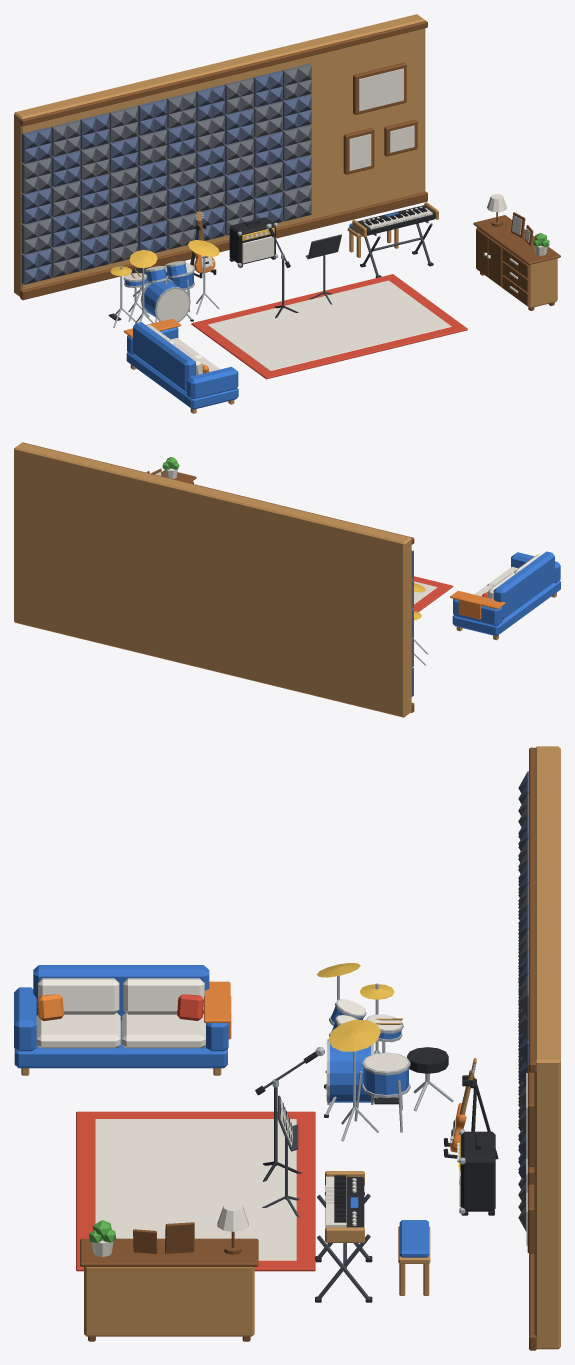
The model's file is cosy-music-room.glb.
3 renders of one model, top to bottom at view 1: azimuth 30°, elevation 25°; view 2: azimuth 150°, elevation 25°; view 3: azimuth 270°, elevation 25°, orthographic. The views are drawn at different scales.
Visible parts, largest first — view 1: FoamWall_Body, Rug_Body, Sofa_Body, DrumKit_Body, Cabinet_Body, Keyboard_Body, Amplifier_Body, MusicStand_Body, Door_R, Door_L, Guitar; view 2: FoamWall_Body, Sofa_Body, Rug_Body, Cabinet_Body; view 3: Rug_Body, FoamWall_Body, Cabinet_Body, Sofa_Body, DrumKit_Body, Keyboard_Body, Amplifier_Body, SofaSeat_L, SofaSeat_R, KeyboardBench_Seat, MusicStand_Body, DrumThrone_Seat (+1 smaller).
Boxes of the visible parts, x1,y1,x2,y2 form: FoamWall_Body: (14,14,427,300); Rug_Body: (191,274,467,379); Sofa_Body: (123,318,238,413); DrumKit_Body: (108,240,219,327); Cabinet_Body: (473,194,560,310); Keyboard_Body: (347,202,438,277); Amplifier_Body: (229,217,277,267); MusicStand_Body: (306,234,341,304); Door_R: (487,238,502,286); Door_L: (476,228,489,277); Guitar: (194,211,215,273); FoamWall_Body: (14,442,414,717); Sofa_Body: (450,551,560,640); Rug_Body: (412,576,453,612); Cabinet_Body: (147,457,196,483); Rug_Body: (76,1111,315,1271); FoamWall_Body: (518,746,560,1350); Cabinet_Body: (80,1202,258,1341); Sofa_Body: (14,965,231,1075); DrumKit_Body: (316,963,453,1141); Keyboard_Body: (315,1171,430,1302); Amplifier_Body: (457,1129,495,1215); SofaSeat_L: (36,1012,120,1048); SofaSeat_R: (122,1013,205,1048); KeyboardBench_Seat: (399,1220,428,1257); MusicStand_Body: (262,1095,299,1217); DrumThrone_Seat: (407,1047,448,1073).
Size of the model in its own units: 28.1 by 12 by 20.53.
